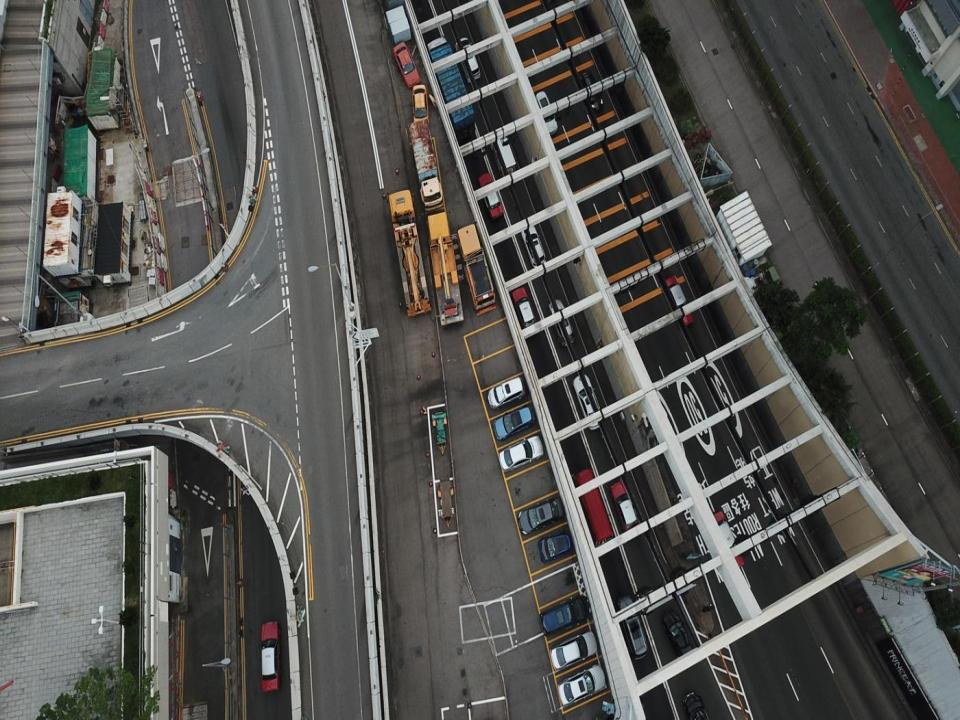bus: (575, 468, 613, 548)
car: (708, 510, 744, 572), (557, 664, 605, 706), (550, 630, 597, 669), (573, 375, 604, 430), (518, 498, 564, 534), (663, 610, 694, 662), (499, 436, 543, 472), (663, 275, 693, 326), (610, 480, 638, 534), (493, 406, 534, 441), (260, 620, 280, 691), (393, 42, 420, 90), (488, 376, 524, 410), (511, 286, 537, 333), (539, 529, 574, 563), (479, 173, 503, 220), (412, 85, 428, 130), (683, 692, 708, 719)
truck: (387, 188, 431, 318), (426, 35, 476, 148), (427, 211, 464, 326), (457, 220, 496, 315), (406, 118, 444, 213), (489, 128, 516, 180)
van: (617, 594, 647, 660), (540, 595, 588, 634), (548, 298, 574, 346), (454, 38, 481, 83), (520, 224, 546, 268), (533, 91, 557, 136), (581, 70, 603, 112)
